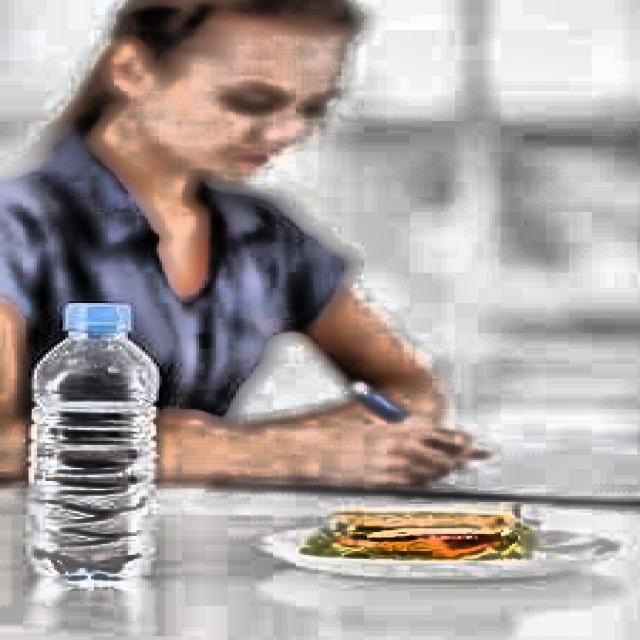Bottles: (19, 296, 169, 590)
